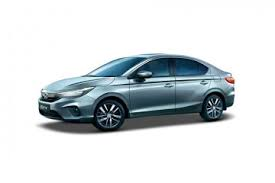Honda: (35, 52, 234, 131)
